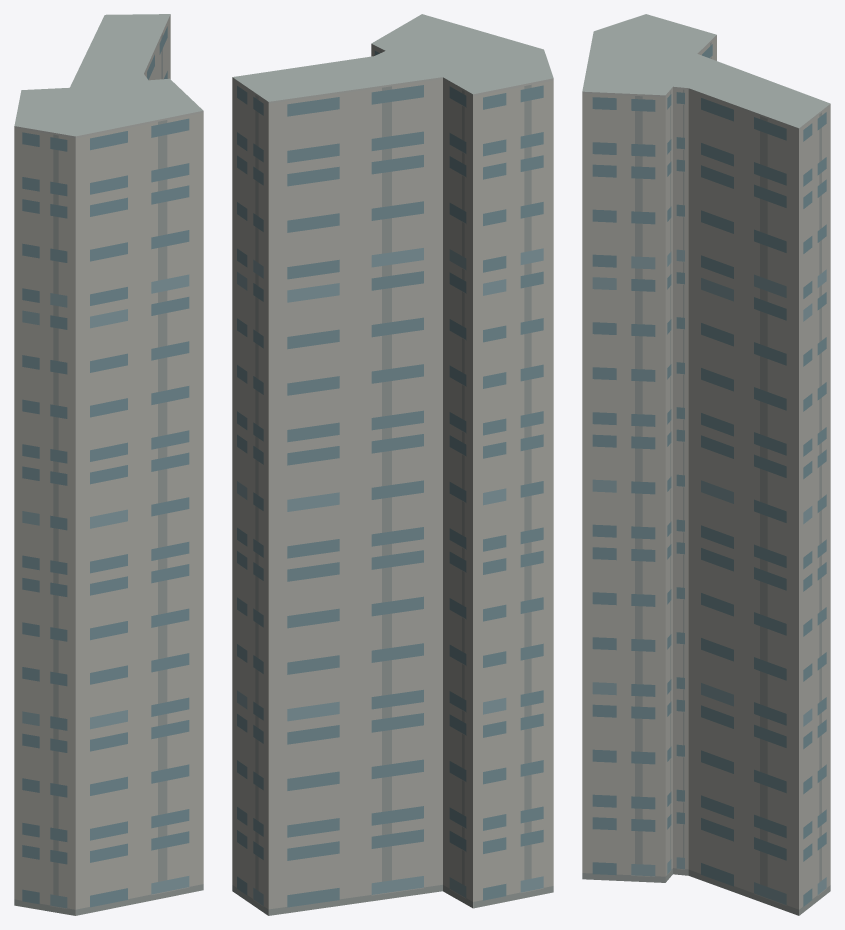
File: residential-202b9177-ac4d-4b7f-99e8-fce6344e8424.glb
3 views of the same model, side by side, from view 1: azimuth 30°, elevation 25°; view 2: azimuth 150°, elevation 25°; view 3: azimuth 270°, elevation 25° (orthographic). The views are drawn at different scales.
Visible parts, largest first — view 1: residential-202b9177-ac4d-4b7f-99e8-fce6344e8424.tmp; view 2: residential-202b9177-ac4d-4b7f-99e8-fce6344e8424.tmp; view 3: residential-202b9177-ac4d-4b7f-99e8-fce6344e8424.tmp.
Part boxes in pixels (box(x1,y1,x2,y2)): residential-202b9177-ac4d-4b7f-99e8-fce6344e8424.tmp: box(14, 14, 203, 915); residential-202b9177-ac4d-4b7f-99e8-fce6344e8424.tmp: box(232, 14, 553, 915); residential-202b9177-ac4d-4b7f-99e8-fce6344e8424.tmp: box(582, 14, 830, 915).
Size of the model in its own units: 31.47 by 101 by 28.89.
